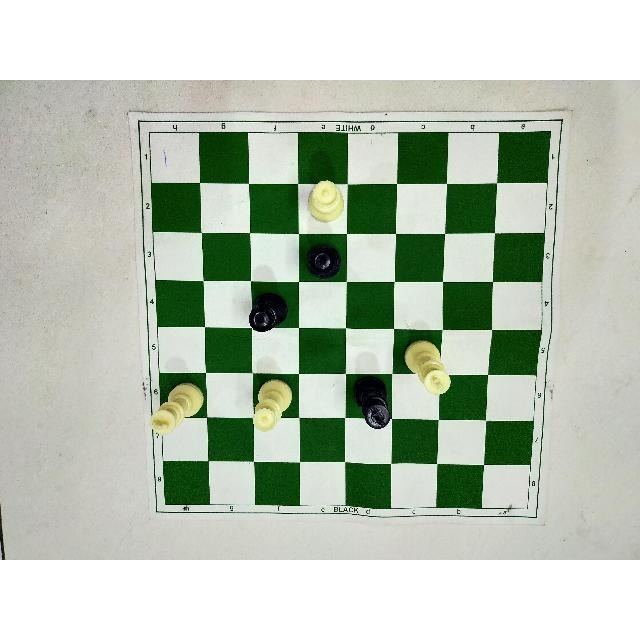black-king: (345, 375, 393, 430)
black-queen: (246, 290, 289, 332), (301, 242, 345, 282)
white-king: (149, 379, 205, 439), (404, 339, 454, 396)
white-queen: (251, 380, 295, 432), (304, 178, 346, 226)
